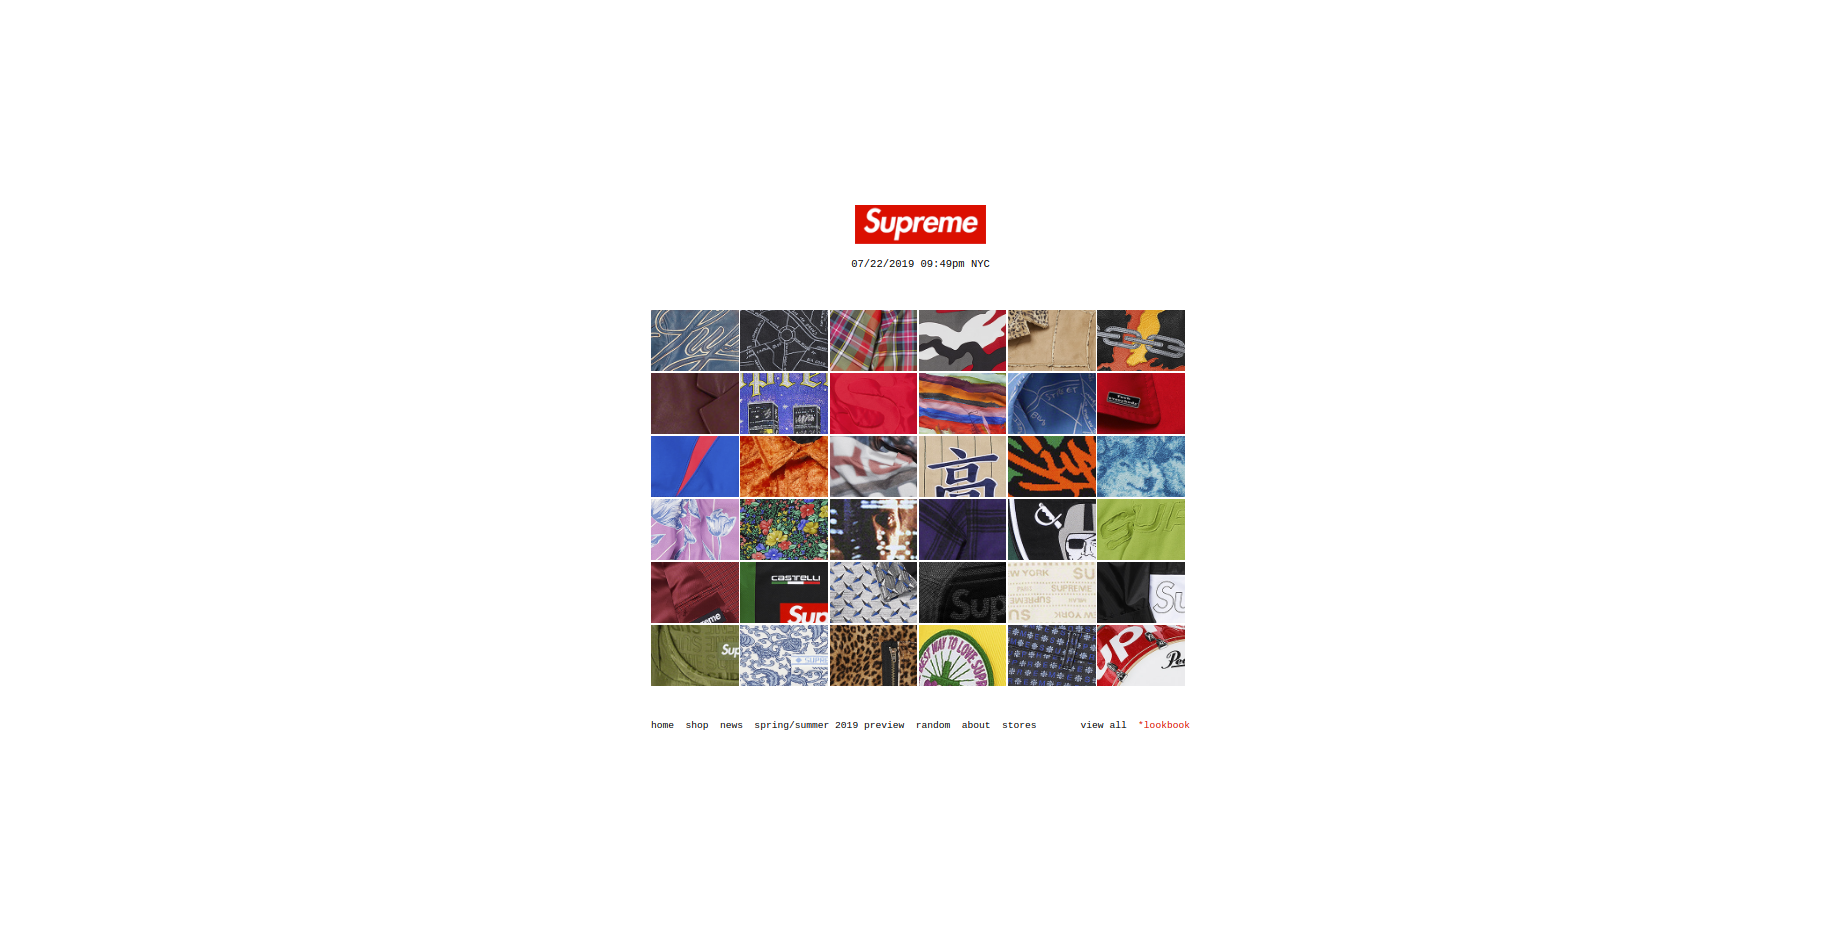Supreme: (848, 198, 994, 251)
